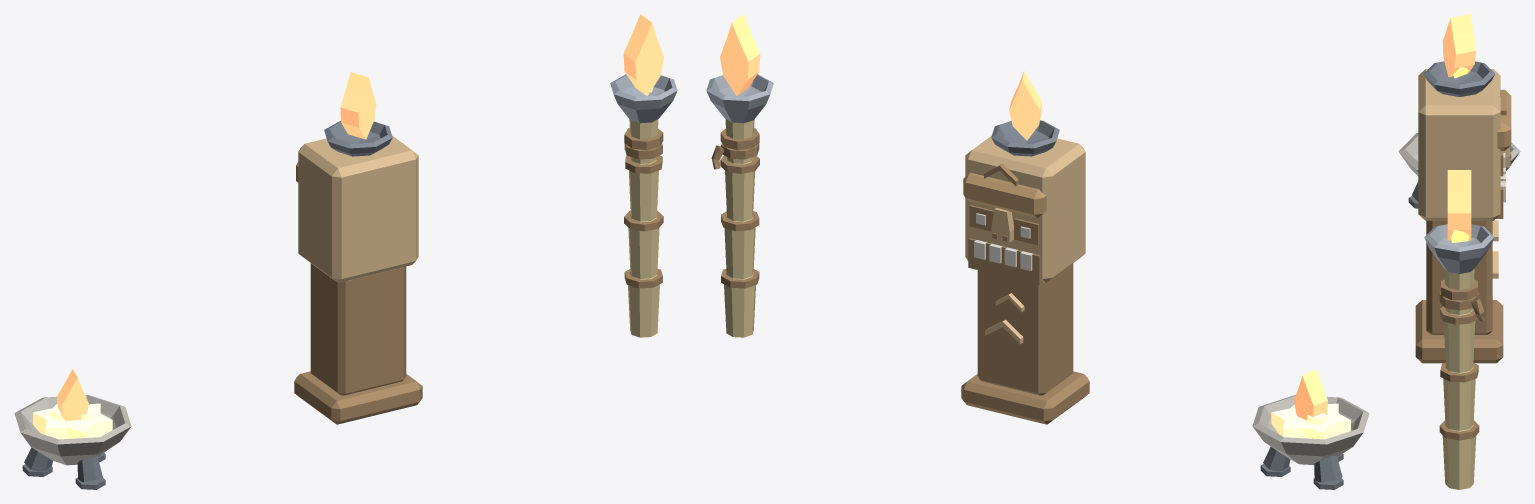
File: TikiTorch.fbx
The picture shows the model from 3 angles, left to right: view 1: azimuth 30°, elevation 25°; view 2: azimuth 150°, elevation 25°; view 3: azimuth 270°, elevation 25°; orthographic projection.
Parts seen in each view (by area): view 1: TikiTorch.B_Head, TikiTorch.B_Post, TikiTorch.A_Pole, TikiTorch.C_Bowl, TikiTorch.A_Lashing, TikiTorch.A_FlameTip, TikiTorch.A_Bowl, TikiTorch.C_Coals, TikiTorch.B_FlameTip, TikiTorch.B_Bowl, TikiTorch.C_Legs, TikiTorch.C_FlameTip; view 2: TikiTorch.B_Post, TikiTorch.B_Head, TikiTorch.A_Pole, TikiTorch.C_Bowl, TikiTorch.A_Lashing, TikiTorch.B_Brow, TikiTorch.A_FlameTip, TikiTorch.A_Bowl, TikiTorch.C_Coals, TikiTorch.B_Bowl, TikiTorch.C_Legs, TikiTorch.B_FlameTip (+2 smaller); view 3: TikiTorch.B_Head, TikiTorch.B_Post, TikiTorch.A_Pole, TikiTorch.A_Lashing, TikiTorch.A_Bowl, TikiTorch.B_FlameTip, TikiTorch.A_FlameTip, TikiTorch.B_Bowl, TikiTorch.C_Bowl, TikiTorch.B_Brow, TikiTorch.A_FlameMid, TikiTorch.C_Legs (+1 smaller).
Boxes of the visible parts, x1,y1,x2,y2 form: TikiTorch.B_Head: (298, 136, 418, 282); TikiTorch.B_Post: (294, 263, 422, 424); TikiTorch.A_Pole: (628, 119, 659, 337); TikiTorch.C_Bowl: (14, 395, 131, 465); TikiTorch.A_Lashing: (624, 128, 663, 288); TikiTorch.A_FlameTip: (623, 14, 663, 95); TikiTorch.A_Bowl: (610, 74, 677, 123); TikiTorch.C_Coals: (33, 403, 112, 439); TikiTorch.B_FlameTip: (340, 72, 376, 139); TikiTorch.B_Bowl: (324, 121, 392, 156); TikiTorch.C_Legs: (22, 447, 105, 489); TikiTorch.C_FlameTip: (57, 369, 88, 421); TikiTorch.B_Post: (961, 164, 1089, 424); TikiTorch.B_Head: (965, 136, 1085, 344); TikiTorch.A_Pole: (724, 119, 755, 337); TikiTorch.C_Bowl: (1252, 395, 1369, 464); TikiTorch.A_Lashing: (711, 128, 759, 288); TikiTorch.B_Brow: (963, 173, 1046, 218); TikiTorch.A_FlameTip: (720, 14, 760, 95); TikiTorch.A_Bowl: (706, 74, 773, 123); TikiTorch.C_Coals: (1271, 403, 1350, 439); TikiTorch.B_Bowl: (991, 120, 1059, 156); TikiTorch.C_Legs: (1260, 447, 1343, 489); TikiTorch.B_FlameTip: (1009, 71, 1041, 140); TikiTorch.B_Head: (1418, 69, 1509, 278); TikiTorch.B_Post: (1415, 90, 1511, 363); TikiTorch.A_Pole: (1442, 268, 1476, 489); TikiTorch.A_Lashing: (1439, 279, 1485, 440); TikiTorch.A_Bowl: (1424, 224, 1494, 273); TikiTorch.B_FlameTip: (1442, 14, 1476, 77); TikiTorch.A_FlameTip: (1447, 170, 1471, 240); TikiTorch.B_Bowl: (1424, 61, 1494, 96); TikiTorch.C_Bowl: (1398, 133, 1520, 175); TikiTorch.B_Brow: (1497, 89, 1511, 150); TikiTorch.A_FlameMid: (1451, 229, 1469, 242); TikiTorch.C_Legs: (1408, 181, 1418, 208).
Size of the model in its own units: 11.45 by 5.46 by 1.84.
